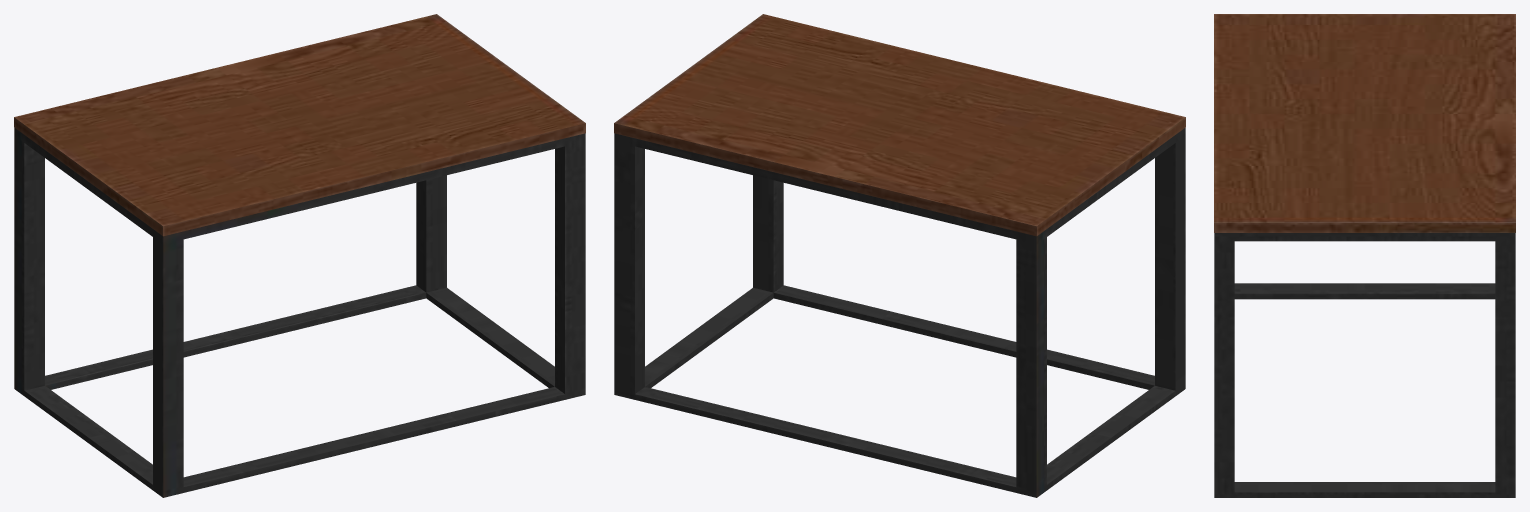
Rendered from Table07.glb.
3 views of the same model, side by side, from view 1: azimuth 30°, elevation 25°; view 2: azimuth 150°, elevation 25°; view 3: azimuth 270°, elevation 25° (orthographic).
Parts seen in each view (by area): view 1: Table07_model; view 2: Table07_model; view 3: Table07_model.
Part boxes in pixels (x1,y1,x2,y2): Table07_model: (14, 14, 585, 497); Table07_model: (614, 14, 1185, 497); Table07_model: (1214, 14, 1515, 497).
Bounding box in the file's own units: 2.59 × 1.59 × 1.58.
Materials: 1 (1 with a texture image).
